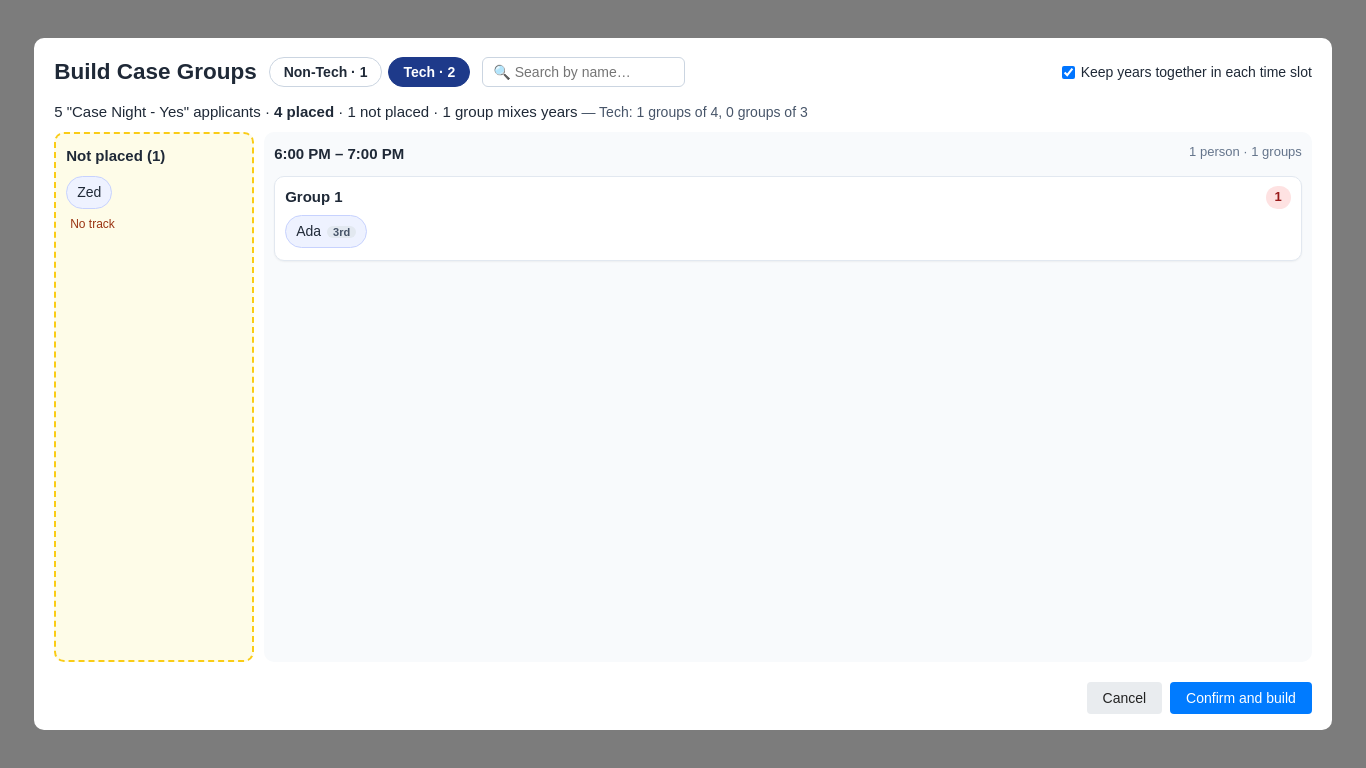
Test: a stale preview is reloaded instead of built
Expected: the text "4 placed" is shown, [274,103,334,120]
Click the button "Confirm and build" at (1241, 698), box [1170,682,1312,714]
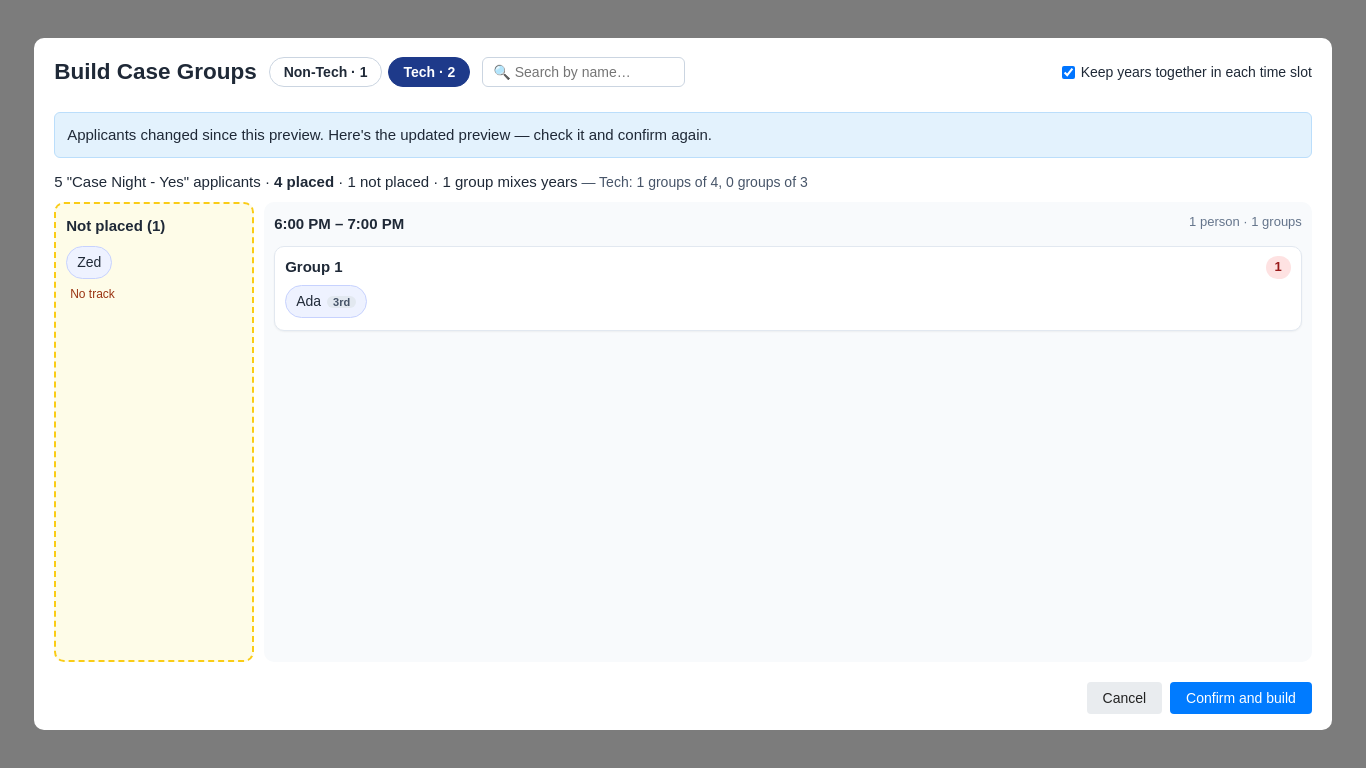
Expected: the text "Applicants changed since this preview" is shown, [67,126,712,143]
